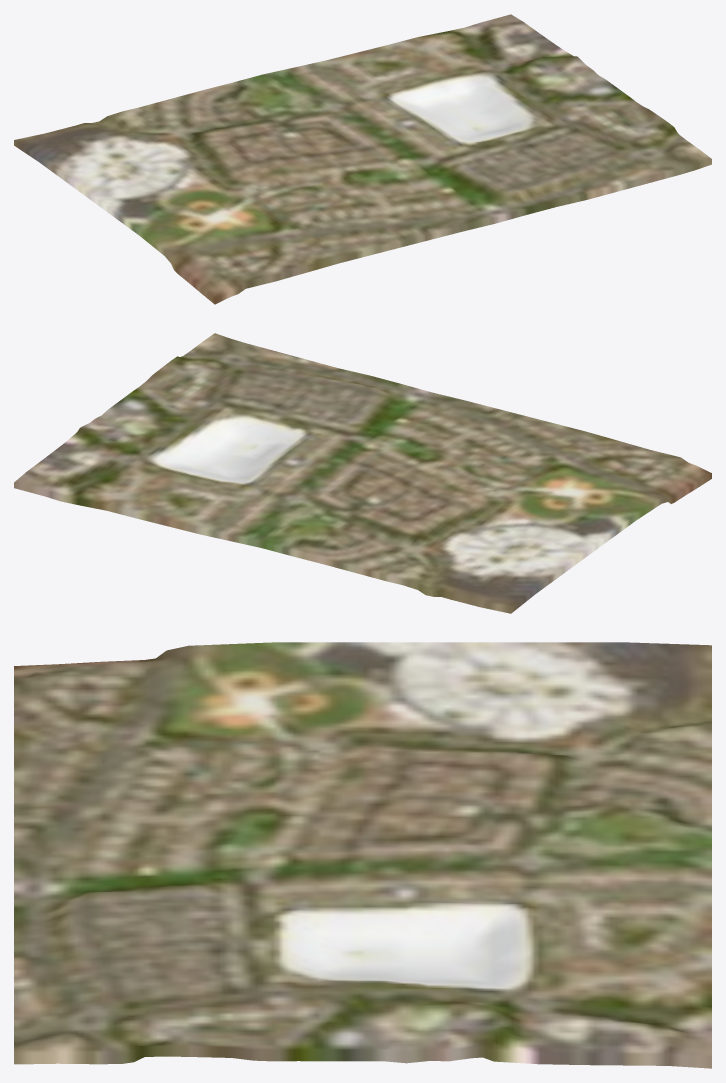
Rendered from terrain_r4_c4_lod2.glb.
3 views of the same model, one above another, from view 1: azimuth 30°, elevation 25°; view 2: azimuth 150°, elevation 25°; view 3: azimuth 270°, elevation 25° (orthographic). The views are drawn at different scales.
Visible parts, largest first — view 1: terrain_r4_c4_lod2; view 2: terrain_r4_c4_lod2; view 3: terrain_r4_c4_lod2.
Boxes of the visible parts, x1,y1,x2,y2 form: terrain_r4_c4_lod2: [14, 14, 711, 304]; terrain_r4_c4_lod2: [14, 333, 711, 613]; terrain_r4_c4_lod2: [14, 642, 711, 1068].
Bounding box in the file's own units: 1125 × 62.56 × 787.
Materials: 1 (1 with a texture image).
